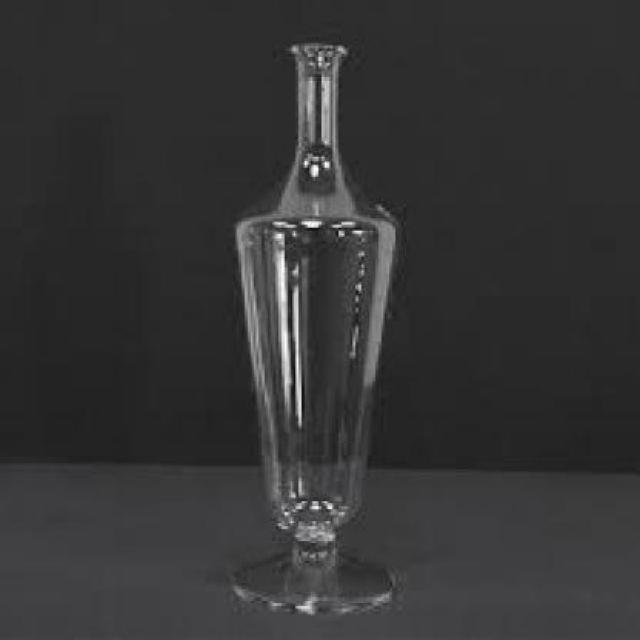kaca: (224, 37, 398, 609)
